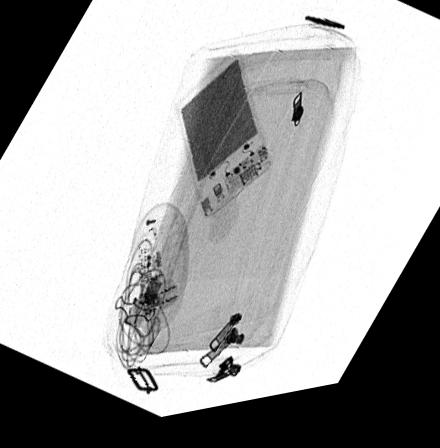Powerbank: (174, 60, 270, 225)
